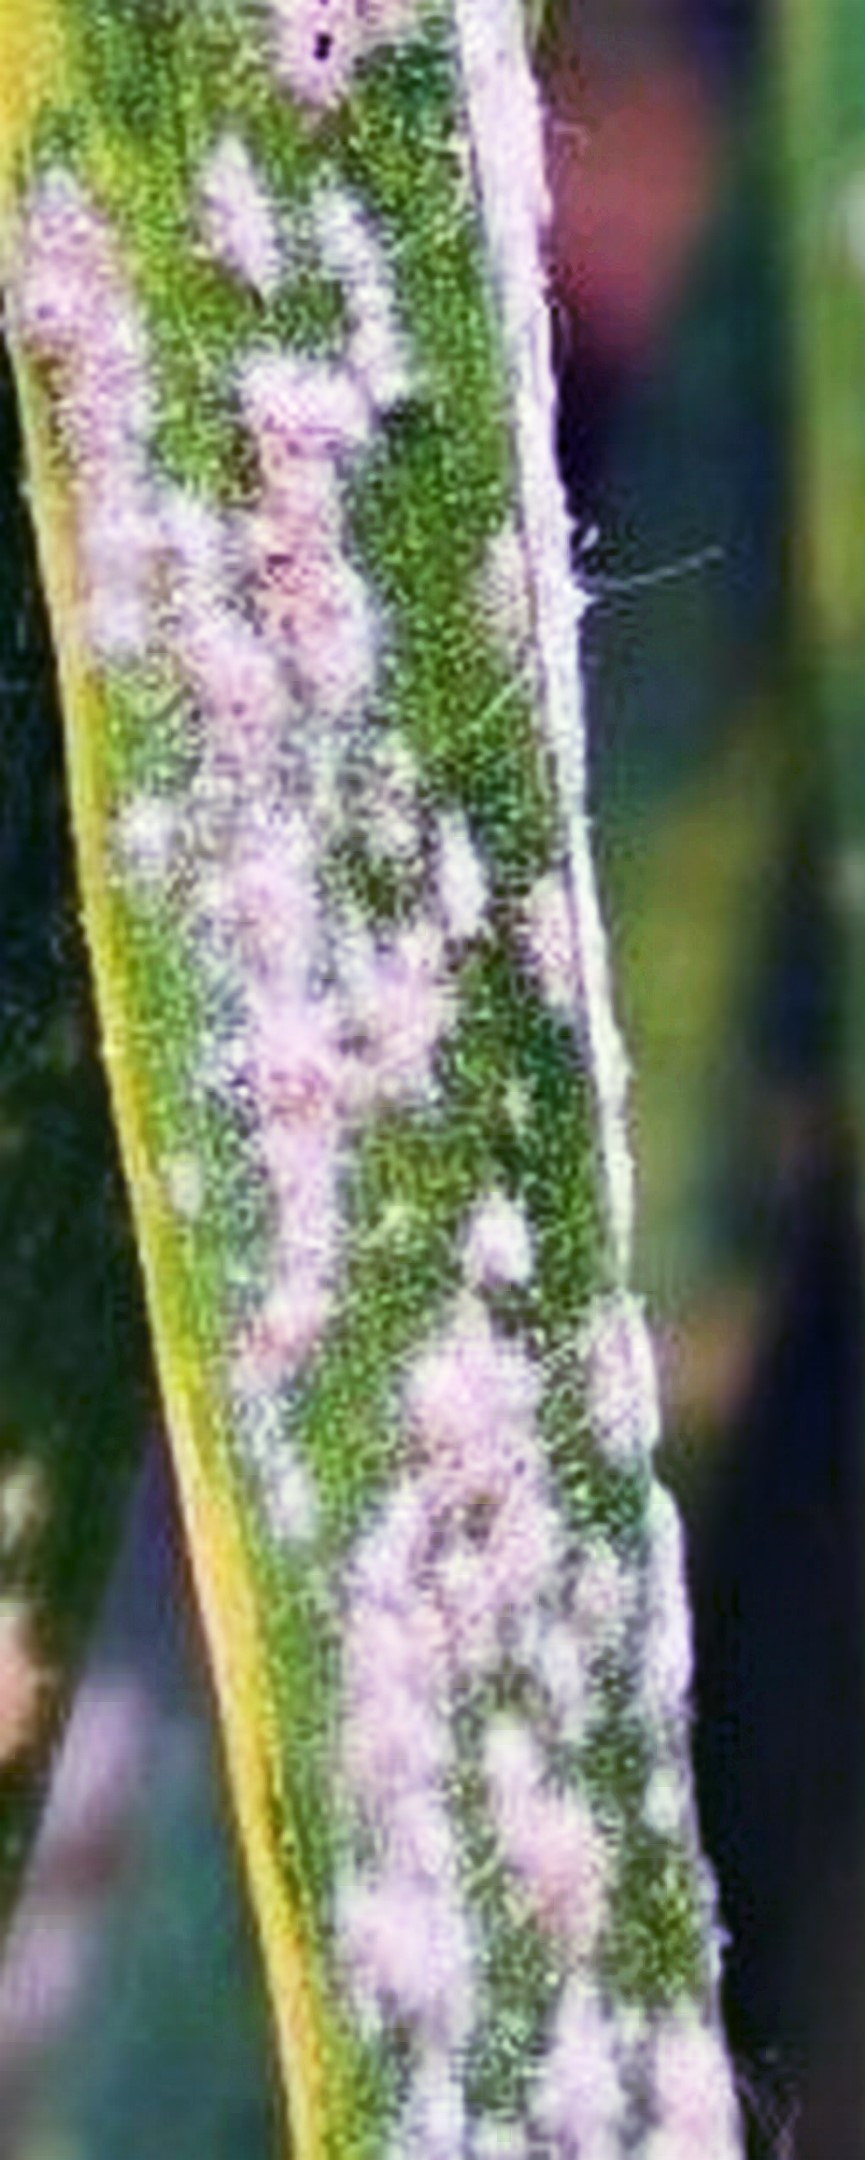Powdery Mildew: (34, 233, 770, 1963)
